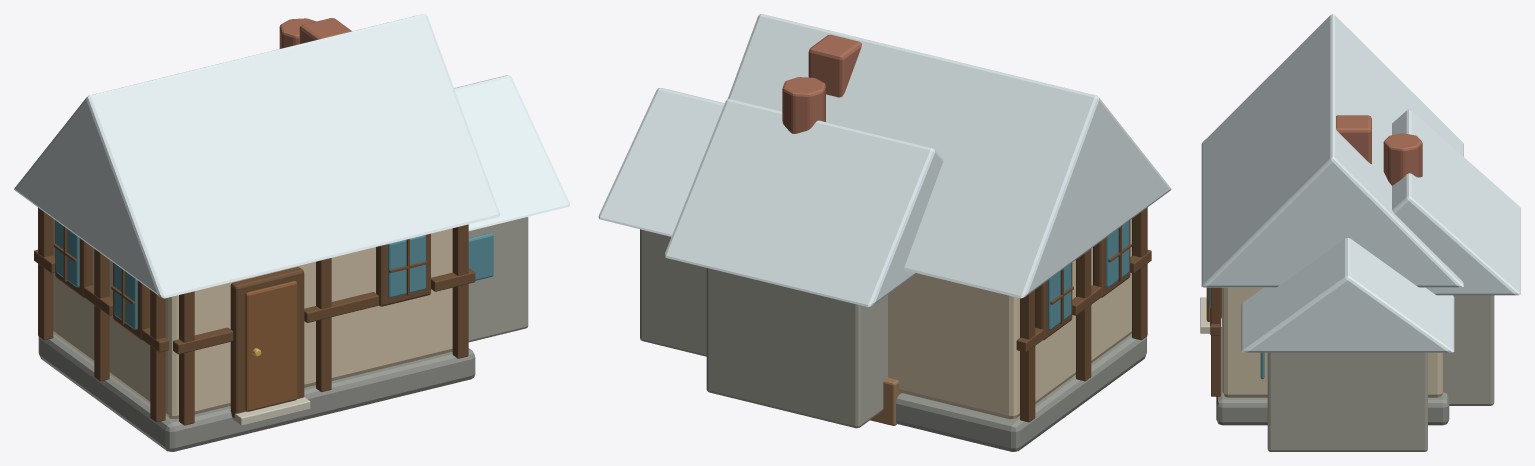
File: snowy-cottage-5.glb
3 views of the same model, side by side, from view 1: azimuth 30°, elevation 25°; view 2: azimuth 150°, elevation 25°; view 3: azimuth 270°, elevation 25° (orthographic). The views are drawn at different scales.
Visible parts, largest first — view 1: Snow, Ivory plaster, Dark beams, Foundation stone, Door oak, Fieldstone, Blue glass, Chimney brick, Cut limestone; view 2: Snow, Fieldstone, Ivory plaster, Dark beams, Foundation stone, Chimney brick, Blue glass, Aged oak; view 3: Snow, Fieldstone, Ivory plaster, Chimney brick, Foundation stone, Dark beams.
Boxes of the visible parts, x1,y1,x2,y2 form: Snow: (14,14,569,298); Ivory plaster: (53,219,452,419); Dark beams: (34,207,475,425); Foundation stone: (38,333,475,451); Door oak: (245,281,297,411); Fieldstone: (468,217,528,342); Blue glass: (56,221,493,329); Chimney brick: (279,18,351,48); Cut limestone: (229,397,310,425); Snow: (598,14,1171,307); Fieldstone: (640,229,887,428); Ivory plaster: (888,219,1131,419); Dark beams: (1016,207,1151,422); Foundation stone: (896,334,1146,451); Chimney brick: (782,34,861,133); Blue glass: (1048,221,1129,329); Aged oak: (870,377,901,425); Snow: (1201,14,1520,352); Fieldstone: (1267,295,1494,451); Ivory plaster: (1222,287,1442,397); Chimney brick: (1336,115,1422,185); Foundation stone: (1216,288,1449,425); Dark beams: (1207,287,1221,396).
Size of the model in its own units: 4.38 by 3.03 by 3.19.
